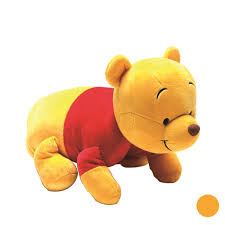Winnie: (90, 44, 201, 175)
